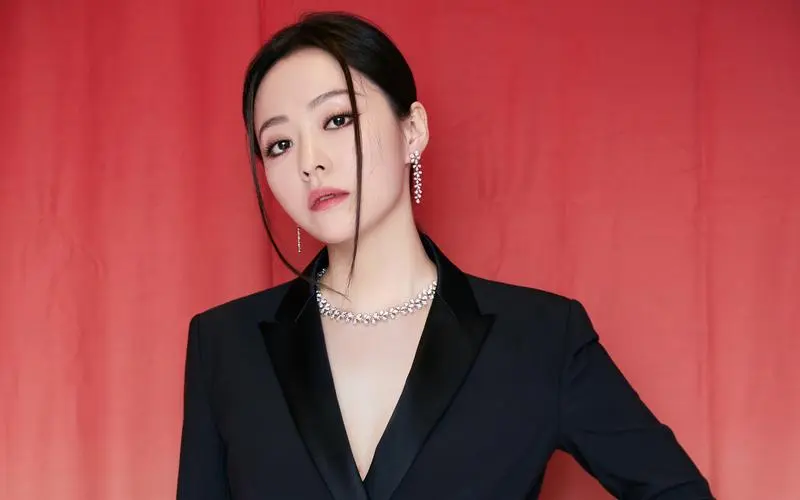withoutmask: (222, 14, 447, 252)
